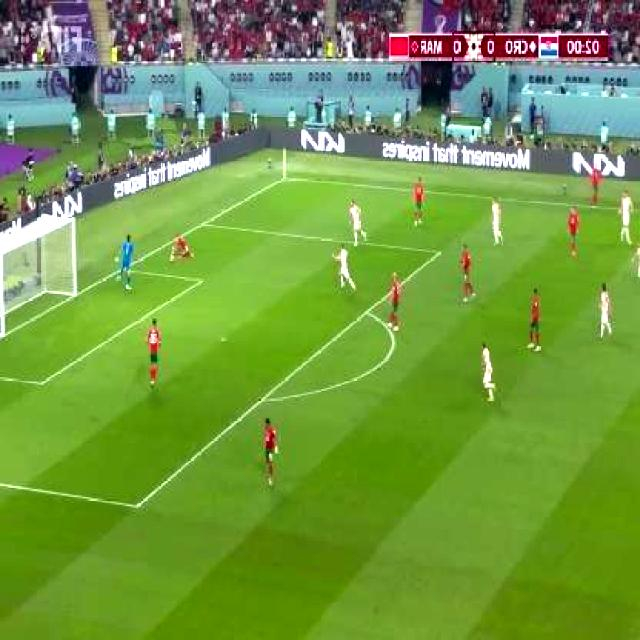bigarea_bottom_inner: (128, 491, 148, 518)
bigarea_top_inner: (432, 242, 448, 262)
bigarea_top_outter: (197, 214, 211, 232)
bottom_arc_area_intersection: (255, 388, 272, 409)
corner: (280, 170, 295, 184)
smallarea_bottom_inner: (32, 370, 51, 396)
smallarea_top_inner: (195, 269, 211, 288)
top_arc_area_intersection: (360, 302, 375, 320)
